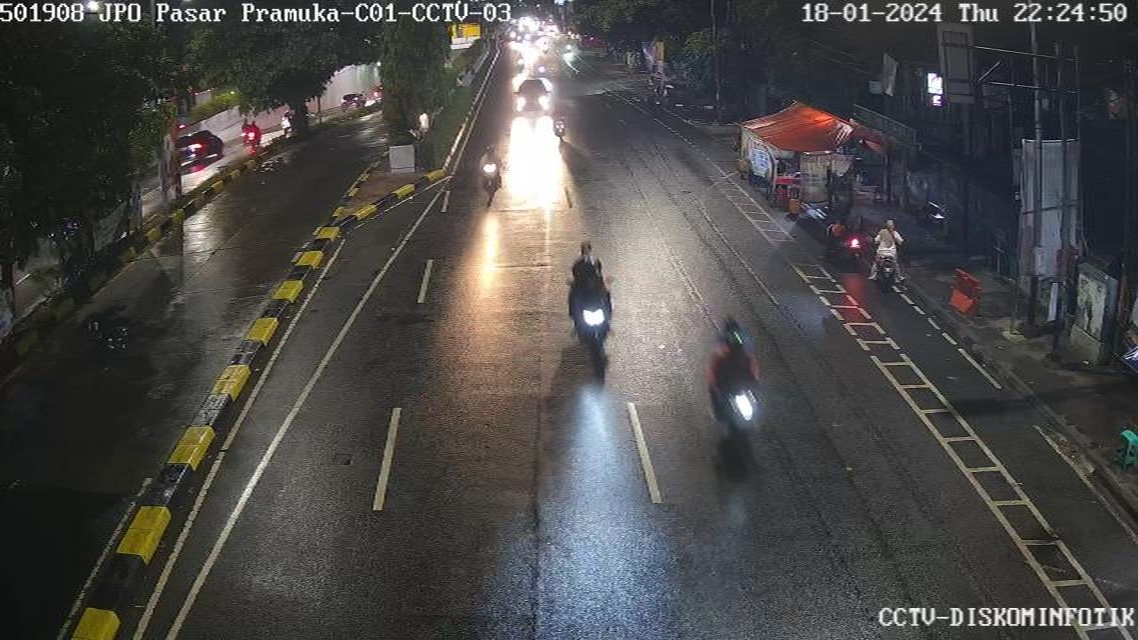Gerobak: (760, 146, 806, 209)
